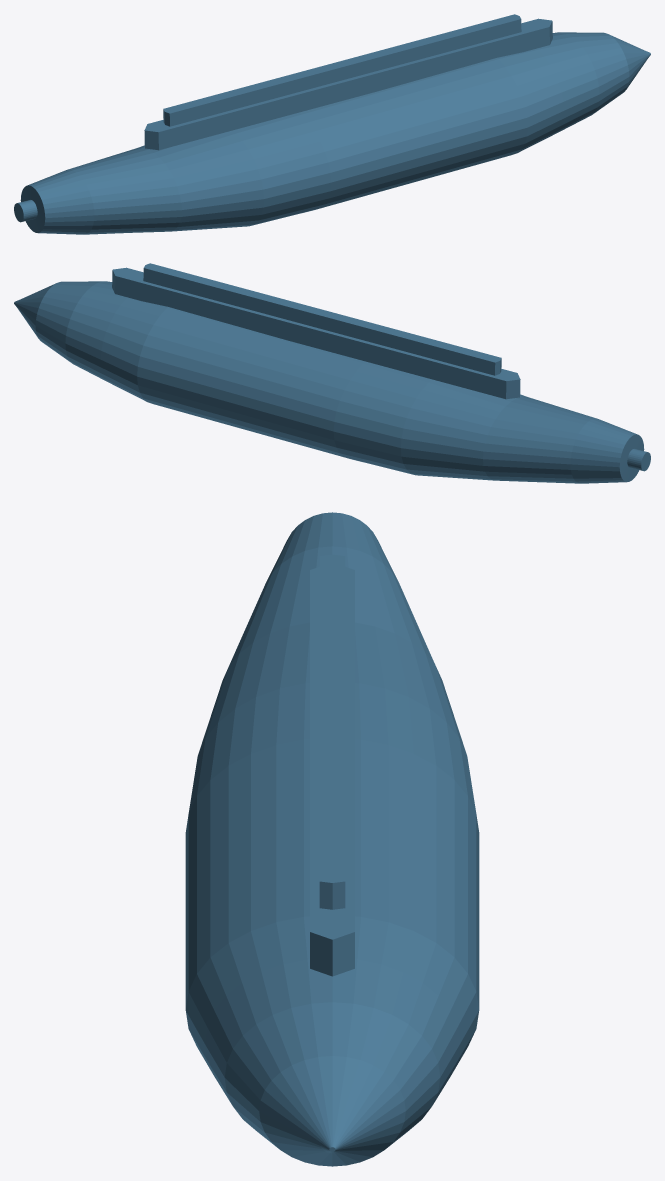
The picture shows the model from 3 angles, top to bottom: view 1: azimuth 30°, elevation 25°; view 2: azimuth 150°, elevation 25°; view 3: azimuth 270°, elevation 25°; orthographic projection. The views are drawn at different scales.
Parts seen in each view (by area): view 1: 円柱.002, 立方体.010, 立方体.015; view 2: 円柱.002, 立方体.010, 立方体.015; view 3: 円柱.002, 立方体.010, 立方体.015.
Part boxes in pixels (x1,y1,x2,y2): 円柱.002: (14,32,650,234); 立方体.010: (144,18,552,150); 立方体.015: (163,14,521,126); 円柱.002: (14,281,650,483); 立方体.010: (112,267,520,399); 立方体.015: (143,263,501,375); 円柱.002: (185,512,479,1166); 立方体.010: (310,567,354,976); 立方体.015: (319,554,345,909).
Size of the model in its own units: 5.35 by 1.08 by 1.08.
